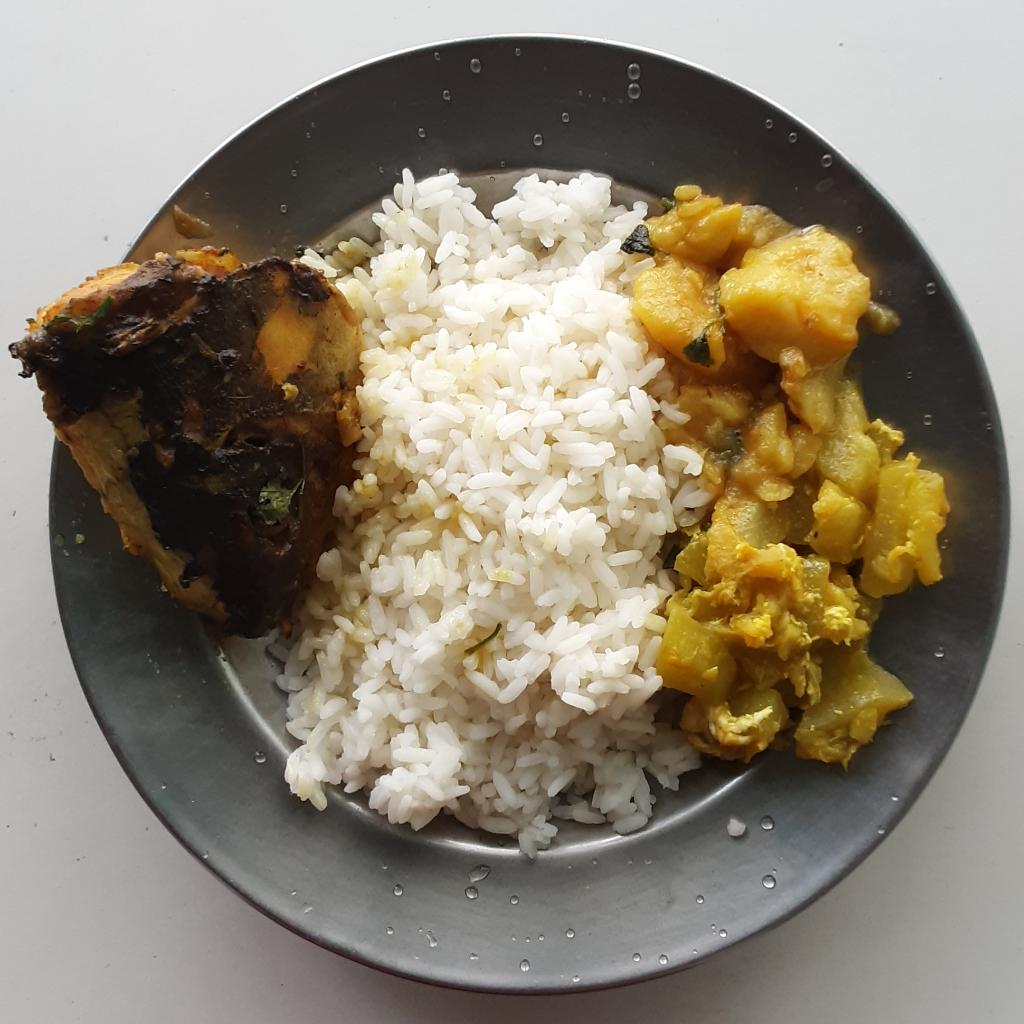fish: (14, 245, 369, 635)
lau: (655, 363, 953, 768)
potato: (633, 185, 866, 505)
rice: (264, 171, 723, 868)
